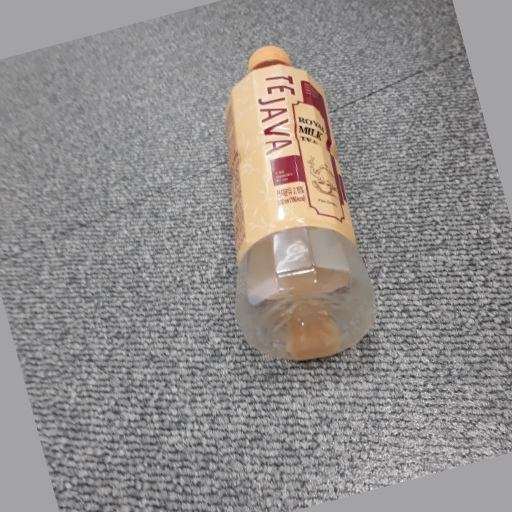Plastic_0: (221, 42, 379, 363)
